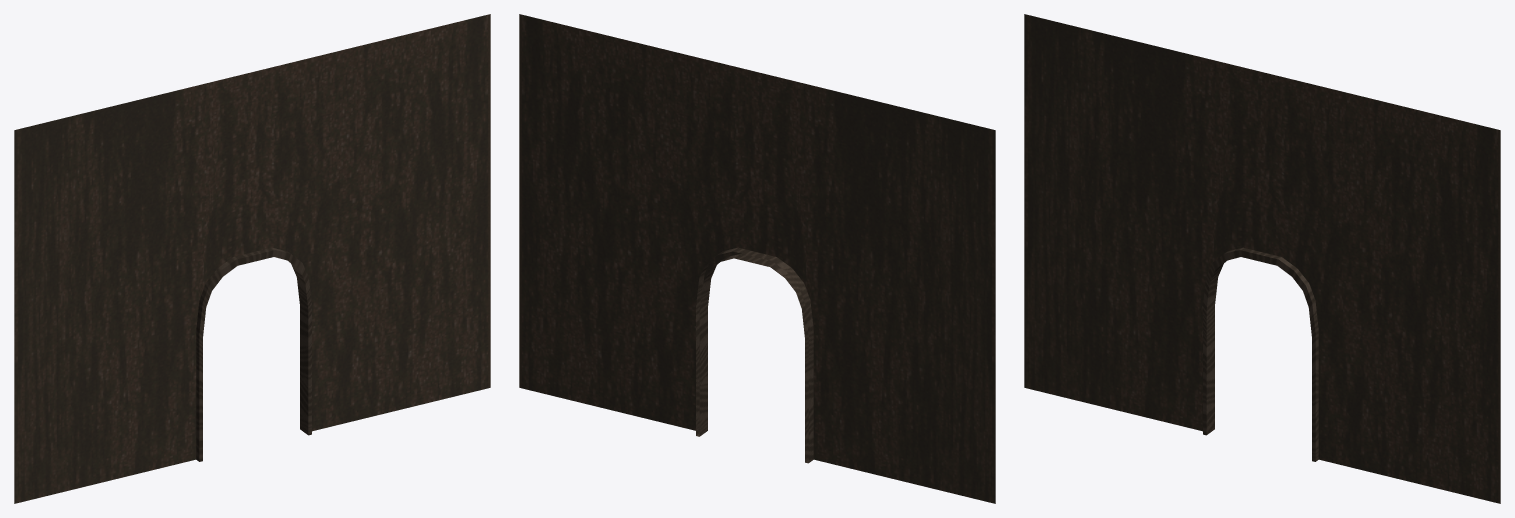
Rendered from wall5.fbx.
3 renders of one model, left to right at view 1: azimuth 30°, elevation 25°; view 2: azimuth 150°, elevation 25°; view 3: azimuth 330°, elevation 25°, orthographic.
Visible parts, largest first — view 1: wall_object2; view 2: wall_object2; view 3: wall_object2.
Part boxes in pixels (<box>): wall_object2: <box>14,14,490,503</box>; wall_object2: <box>519,14,995,503</box>; wall_object2: <box>1024,14,1500,503</box>.
Size of the model in its own units: 400 by 300 by 12.5.
1 material, 1 textured.
